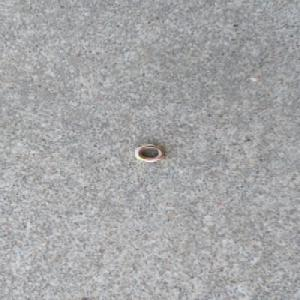Nut: (132, 143, 166, 163)
